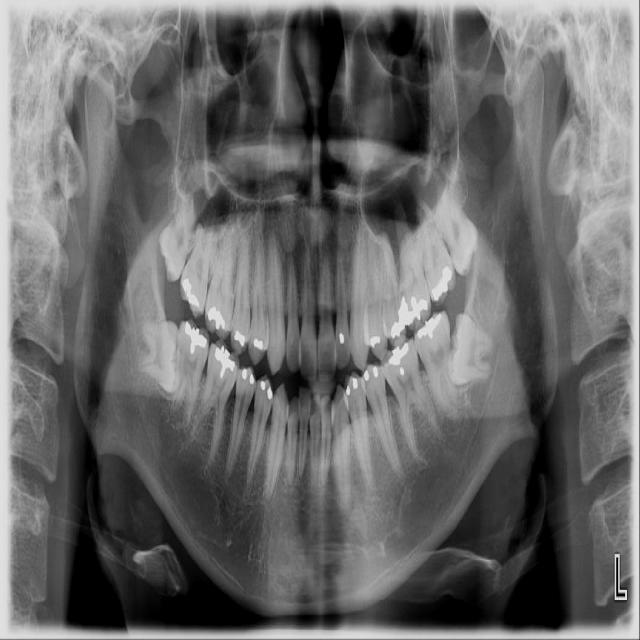Filling: (387, 338, 413, 379), (334, 313, 351, 370), (429, 265, 454, 302), (182, 323, 209, 352), (415, 313, 443, 340), (402, 295, 428, 324), (178, 276, 201, 307), (214, 345, 234, 377), (390, 297, 405, 339), (205, 306, 227, 333), (343, 376, 360, 406), (257, 376, 274, 401), (362, 365, 381, 386), (230, 328, 248, 347), (250, 335, 267, 355), (240, 368, 255, 387), (366, 333, 383, 347)
impacted tooth: (126, 320, 183, 392), (449, 315, 499, 384)
